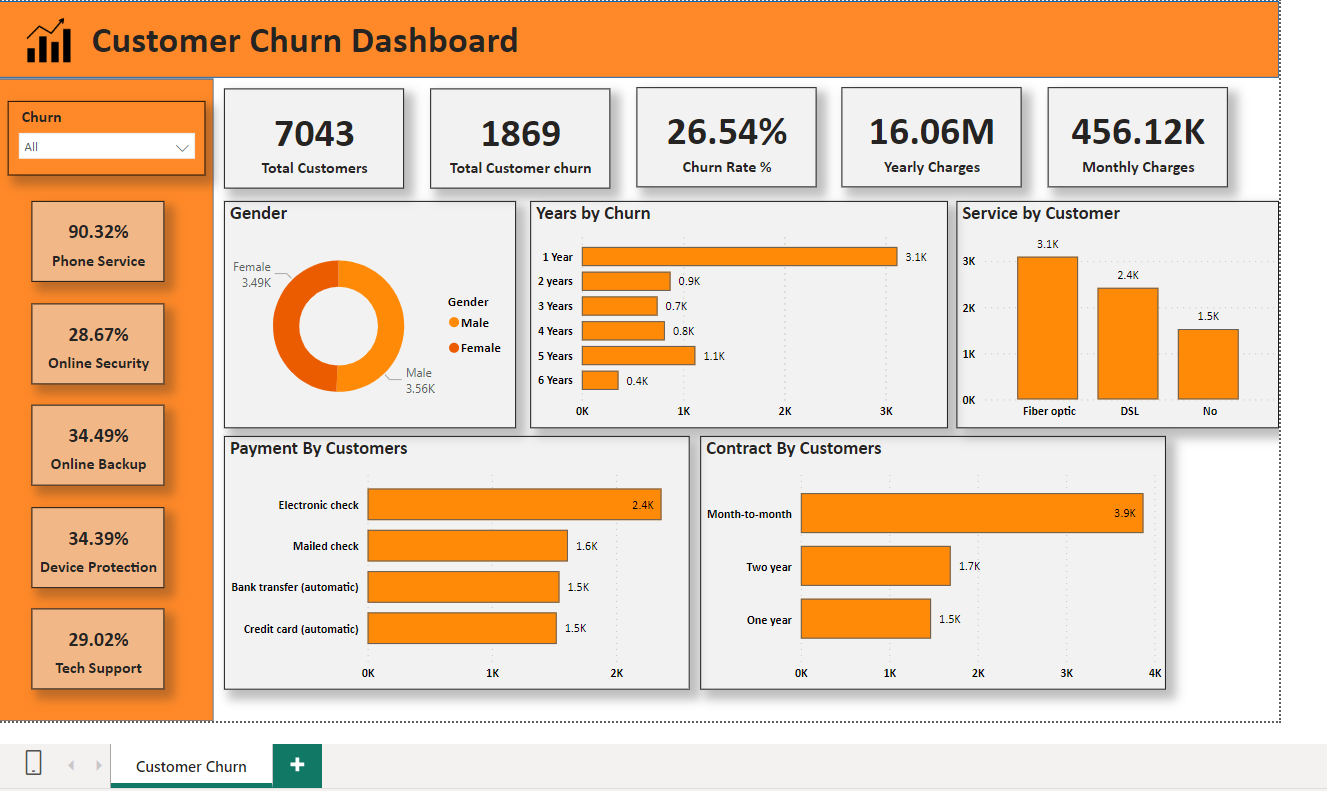

What the dashboard file says about the page in this screenshot:
{"tool":"powerbi","page":{"name":"Customer Churn","canvas":[1280,720],"ordinal":0},"visuals":[{"type":"shape","box":[0,0,1280.3,76.8],"z":0},{"type":"image","box":[0,11,98.8,56.3],"z":1000},{"type":"textbox","box":[88.1,10.9,951.9,56.7],"z":2000},{"type":"donutChart","title":"Gender","fields":{"Category":["Telco-Customer-Churn.gender"],"Y":["CountNonNull(Telco-Customer-Churn.gender)"]},"box":[225.6,200.3,292,226.8],"z":3000},{"type":"card","fields":{"Values":["Key Measures.Total Customer churn"]},"box":[431.3,87.8,179.8,100.1],"z":4000},{"type":"shape","box":[0,77.2,214.7,643],"z":5000},{"type":"card","fields":{"Values":["Key Measures.Yearly Charges"]},"box":[842.7,86.9,179.8,100.1],"z":6000},{"type":"card","fields":{"Values":["Key Measures.Monthly Charges"]},"box":[1048.4,86.9,179.8,100.1],"z":7000},{"type":"slicer","fields":{"Values":["Telco-Customer-Churn.Churn"]},"box":[8.4,100.1,197.9,74.8],"z":8000},{"type":"card","fields":{"Values":["Key Measures.Churn Rate %"]},"box":[637,86.9,179.8,100.1],"z":9000},{"type":"card","fields":{"Values":["Key Measures.Total Customers"]},"box":[225.6,88.1,179.8,100.1],"z":10000},{"type":"barChart","title":"Years by Churn ","fields":{"Y":["Key Measures.Total Customers"],"Category":["Telco-Customer-Churn.Loyality "]},"box":[530.8,200.3,417.4,226.8],"z":11000},{"type":"barChart","title":"Payment By Customers","fields":{"Y":["Key Measures.Total Customers"],"Category":["Telco-Customer-Churn.PaymentMethod"]},"box":[225.6,435.5,465.7,253.4],"z":12000},{"type":"barChart","title":"Contract By Customers","fields":{"Y":["Key Measures.Total Customers"],"Category":["Telco-Customer-Churn.Contract"]},"box":[700.9,435.5,465.7,253.4],"z":13000},{"type":"card","fields":{"Values":["Key Measures.Phone Service"]},"box":[32.6,200.3,132.7,80.8],"z":14000},{"type":"card","fields":{"Values":["Key Measures.Online Security"]},"box":[32.6,302.2,132.7,80.8],"z":15000},{"type":"card","fields":{"Values":["Key Measures.Online Backup"]},"box":[32.6,404.2,132.7,80.8],"z":16000},{"type":"card","fields":{"Values":["Key Measures.Device Protection"]},"box":[32.6,506.1,132.7,80.8],"z":17000},{"type":"card","fields":{"Values":["Key Measures.Tech Support"]},"box":[32.6,608,132.7,80.8],"z":18000},{"type":"columnChart","title":"Service by Customer","fields":{"Y":["Key Measures.Total Customers"],"Category":["Telco-Customer-Churn.InternetService"]},"box":[957.9,200.3,322.1,226.8],"z":19000}]}

Visuals, with their boxes in screenshot pixels (x1, y1, x2, y2):
shape: 3/7/1266/83
image: 3/18/101/73
textbox: 90/18/1029/74
"Gender" donutChart: 226/204/514/428
card - Key Measures.Total Customer churn: 429/93/606/192
shape: 3/83/215/717
card - Key Measures.Yearly Charges: 834/93/1012/191
card - Key Measures.Monthly Charges: 1037/93/1215/191
slicer - Telco-Customer-Churn.Churn: 12/106/207/179
card - Key Measures.Churn Rate %: 632/93/809/191
card - Key Measures.Total Customers: 226/94/403/193
"Years by Churn " barChart: 527/204/939/428
"Payment By Customers" barChart: 226/436/685/686
"Contract By Customers" barChart: 695/436/1154/686
card - Key Measures.Phone Service: 36/204/166/284
card - Key Measures.Online Security: 36/305/166/385
card - Key Measures.Online Backup: 36/406/166/485
card - Key Measures.Device Protection: 36/506/166/586
card - Key Measures.Tech Support: 36/606/166/686
"Service by Customer" columnChart: 948/204/1266/428
